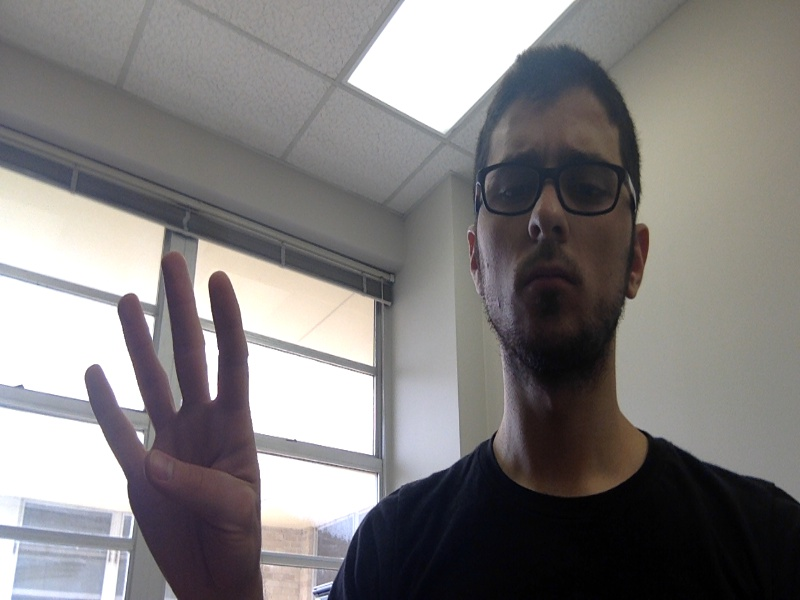4-hand: (85, 252, 265, 600)
